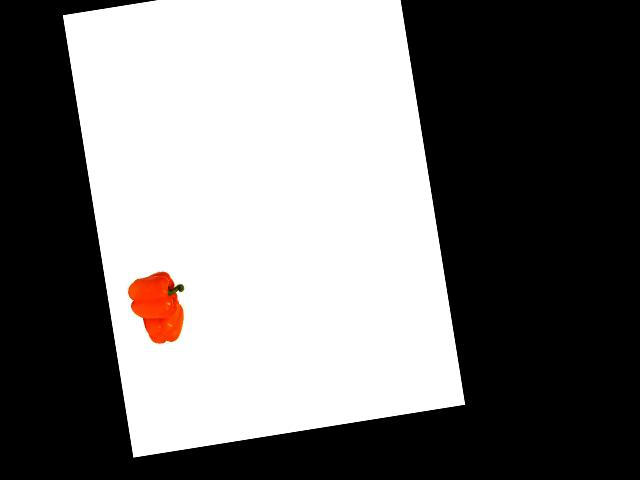bell_pepper: (135, 298, 189, 349)
